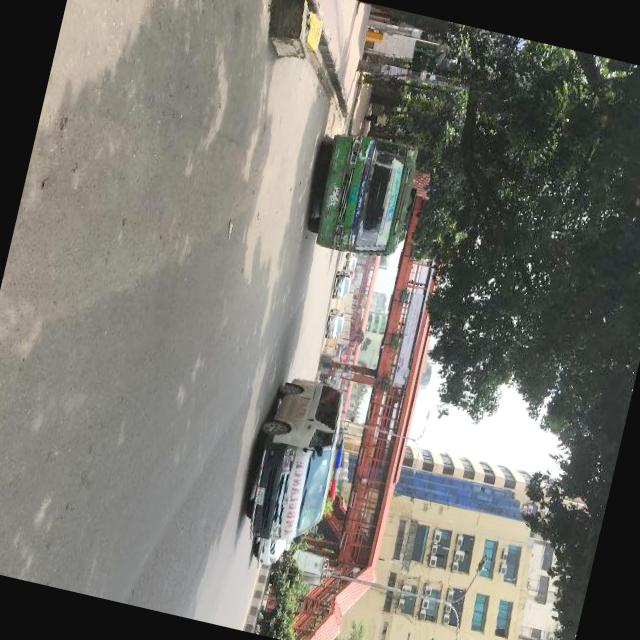bus: (296, 124, 426, 267)
car: (323, 308, 347, 342), (329, 272, 352, 302)
truck: (234, 371, 359, 558), (341, 254, 357, 273)
